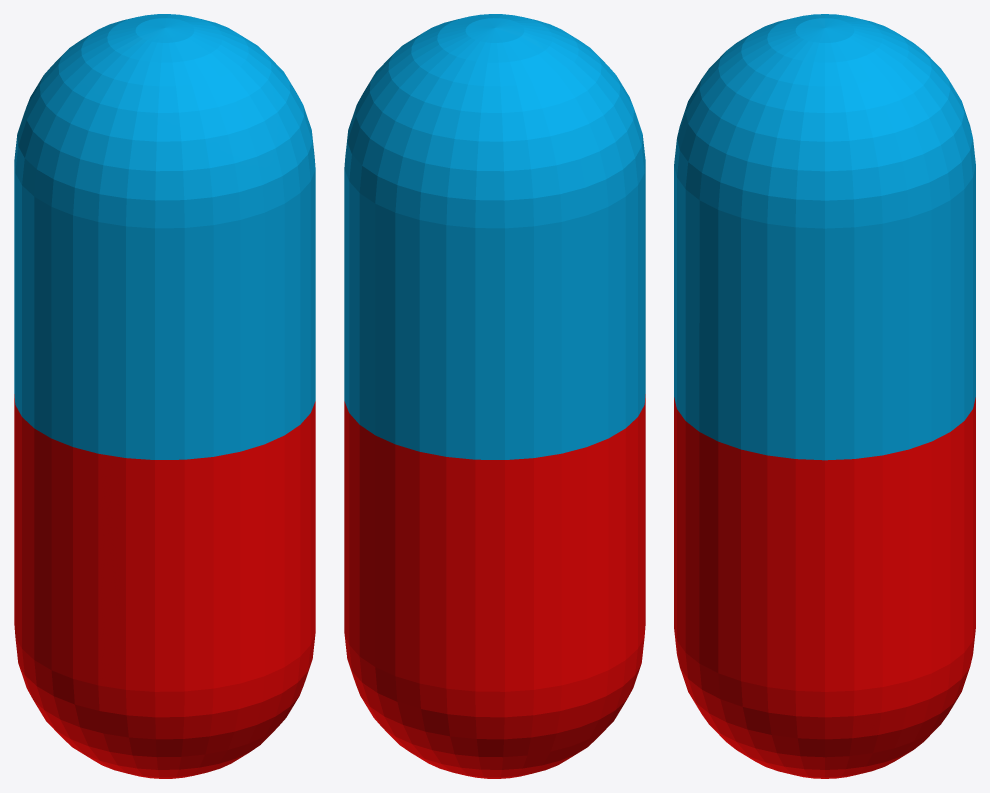
The model's file is Pilule3.fbx.
3 renders of one model, left to right at view 1: azimuth 30°, elevation 25°; view 2: azimuth 150°, elevation 25°; view 3: azimuth 270°, elevation 25°, orthographic.
Parts seen in each view (by area): view 1: Sphere.001; view 2: Sphere.001; view 3: Sphere.001.
Boxes of the visible parts, box(x1,y1,x2,y2) form: Sphere.001: box(14, 14, 315, 778); Sphere.001: box(344, 14, 645, 778); Sphere.001: box(674, 14, 975, 778).
Bounding box in the file's own units: 87.1 × 235 × 87.1.
